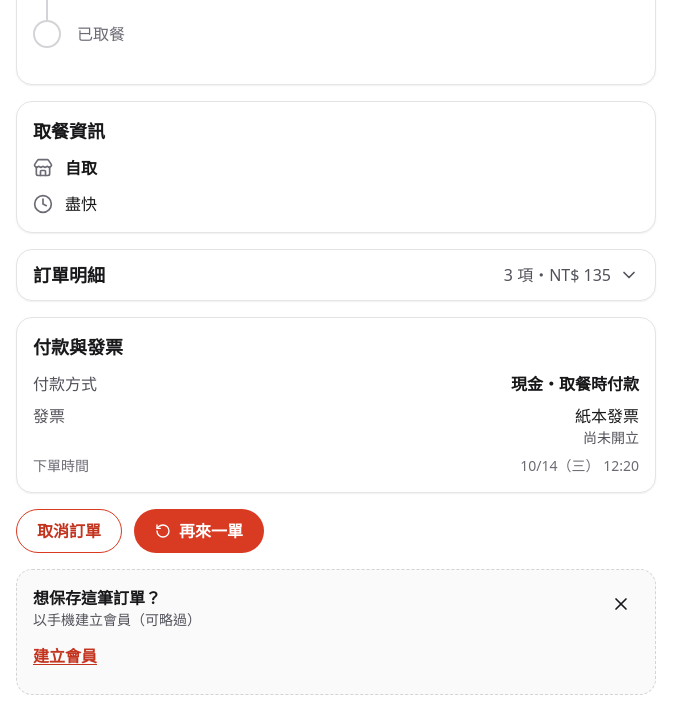
Test: OrderPage：內容與權限 › 訪客顯示「保存訂單」提示，可關閉並記住；會員不顯示
(page scrolled)
expect the heading "想保存這筆訂單？" is shown: met, box [33, 587, 161, 609]
Click the button named "關閉保存提示" at coordinates (621, 604), box [603, 586, 639, 622]
(page scrolled)
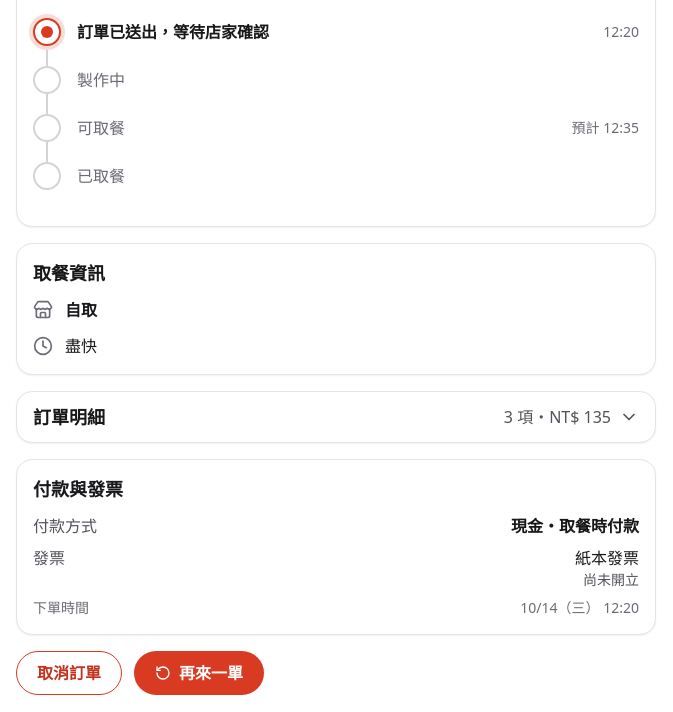
expect the heading "想保存這筆訂單？" is gone: met
